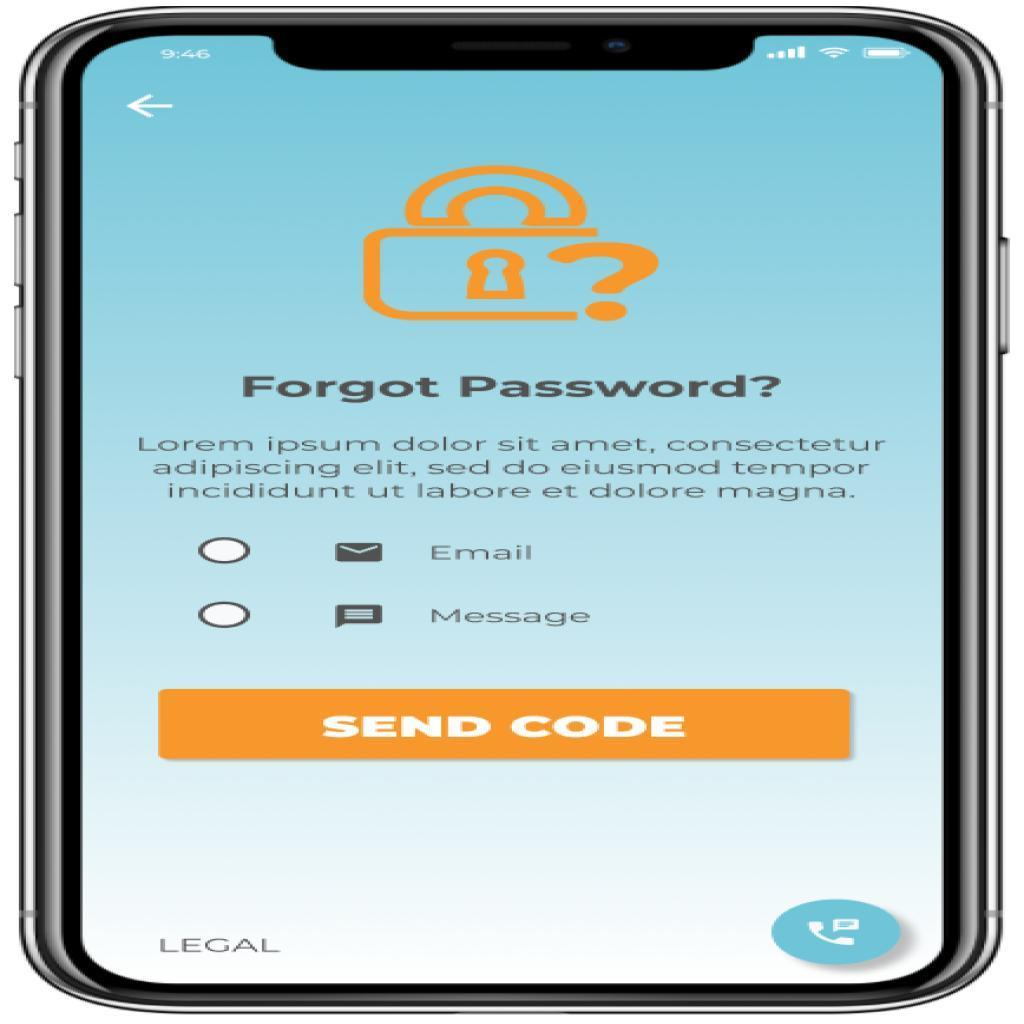button: (160, 689, 852, 763)
icon: (330, 596, 393, 635), (331, 535, 388, 572)
label: (426, 602, 606, 638), (423, 537, 538, 571)
radio: (197, 599, 256, 635), (197, 535, 257, 569)
